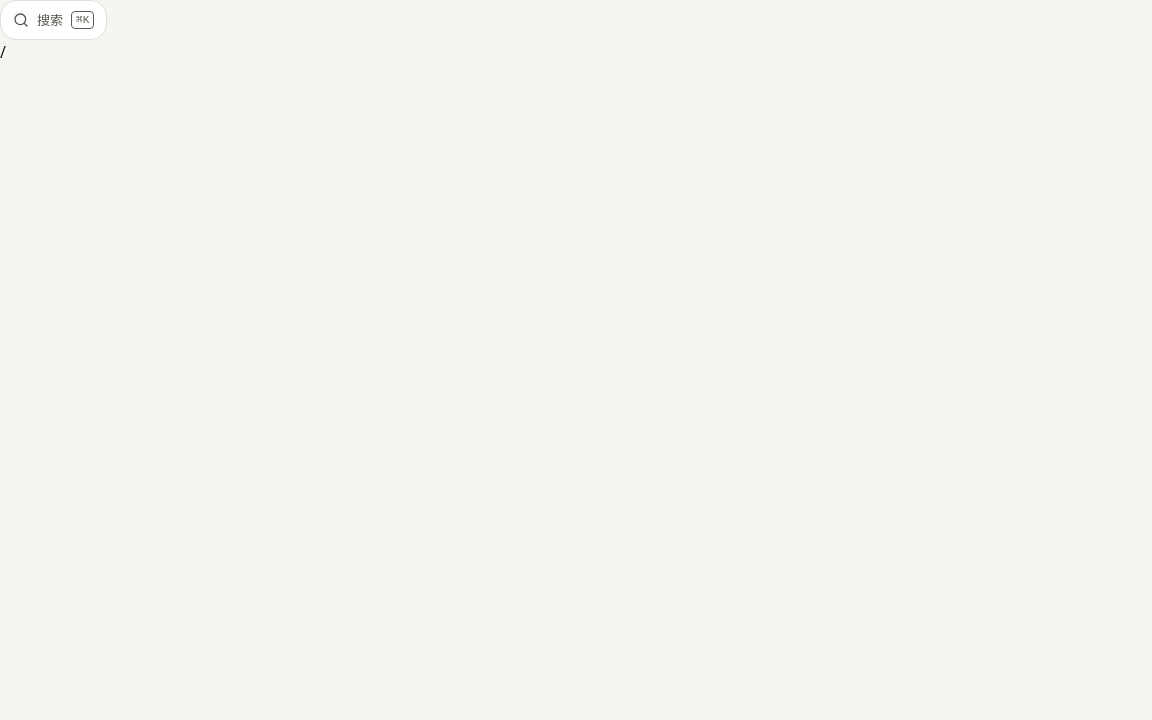
it: ⌘K → 分组结果 + 命中高亮 + ↑↓ Enter 跳转
Type keys "{Control>}k{/Control}"
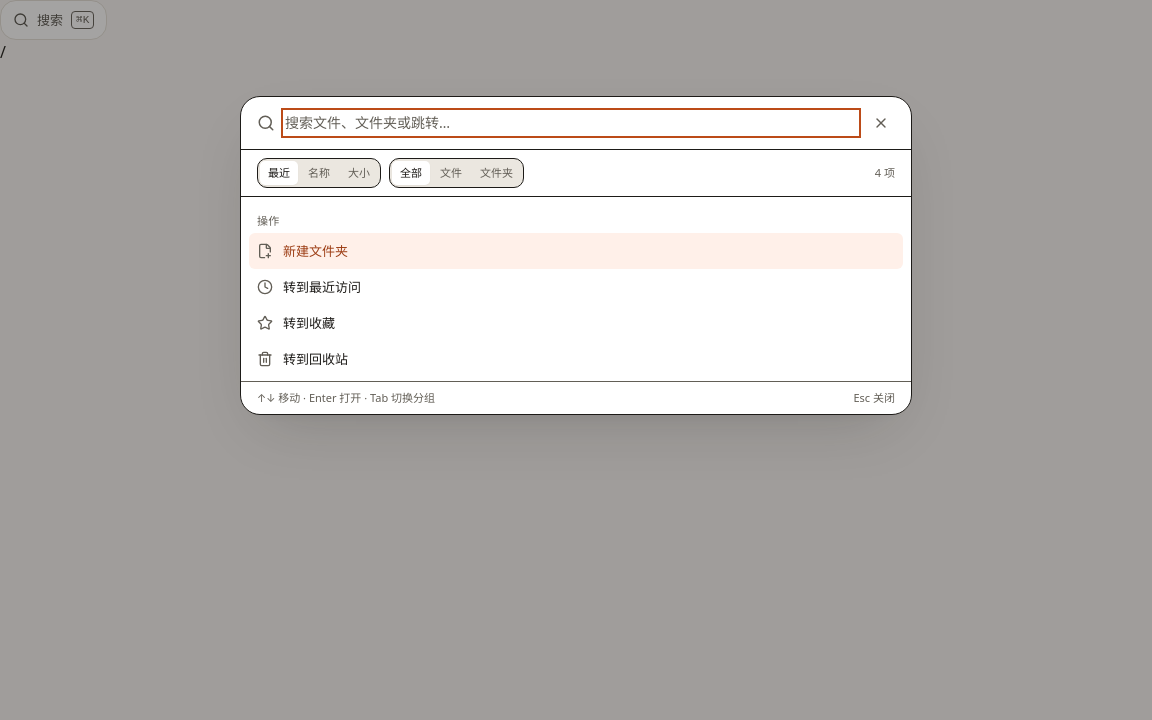
Type "聚会" into the field labelled "搜索" at (571,123), box [285, 112, 857, 134]
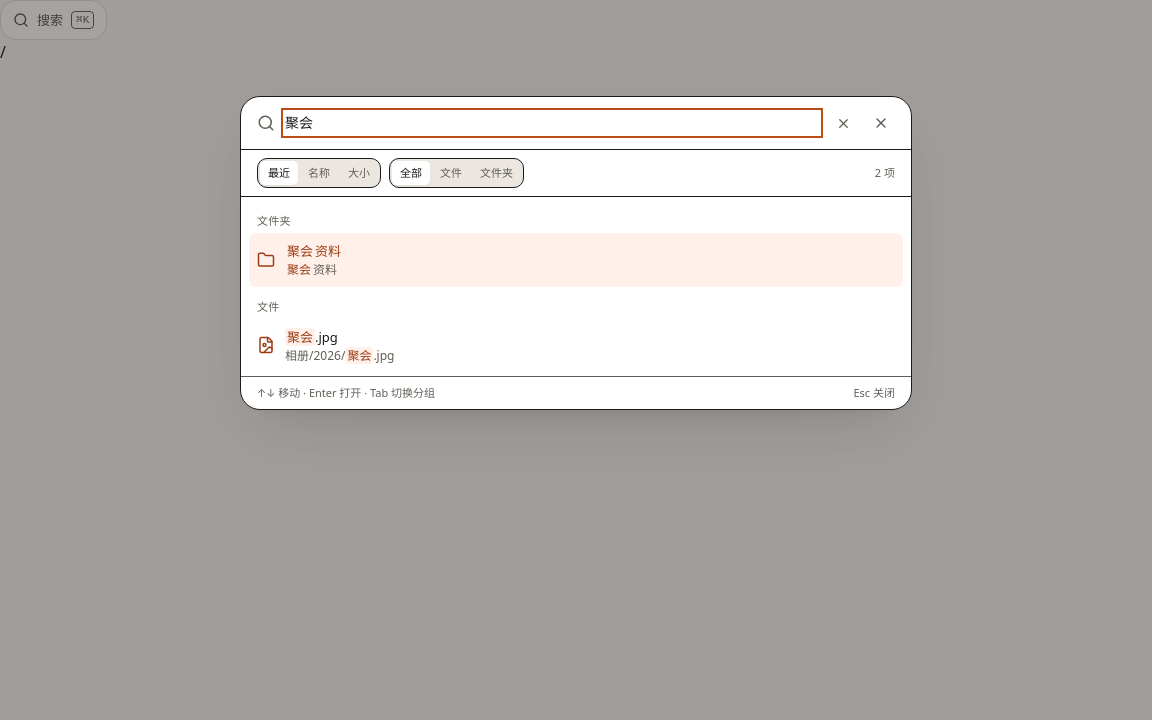
Now the text "文件夹" is shown, box [257, 213, 291, 228]
Now the text "文件" is shown, box [257, 299, 280, 314]
// Tab 切到下一分组（文件夹 → 文件），↑↓ 在两组合并后的列表里移动
Press Tab
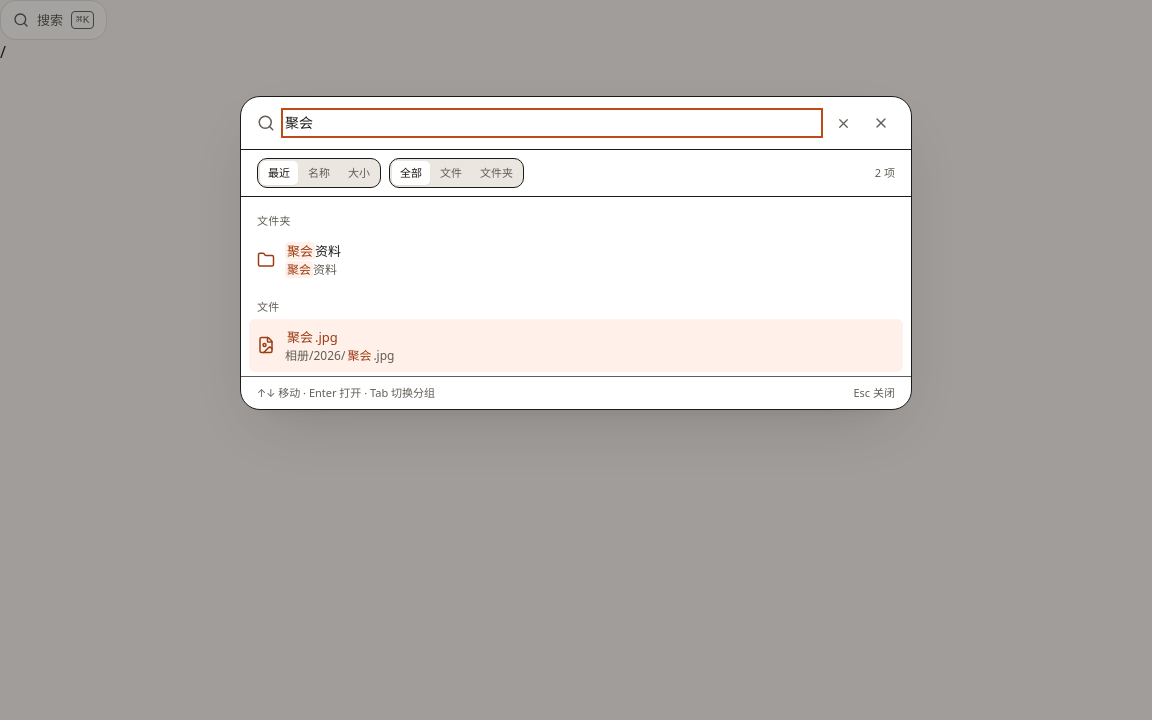
Now the button "聚会.jpg 相册/2026/聚会.jpg" is shown, box [249, 319, 903, 372]
// 末项不支持 wrap 断言，这里用 ↑ 回到文件夹，再 ↓ 回到文件后 Enter
Press Arrowup Arrowdown Enter
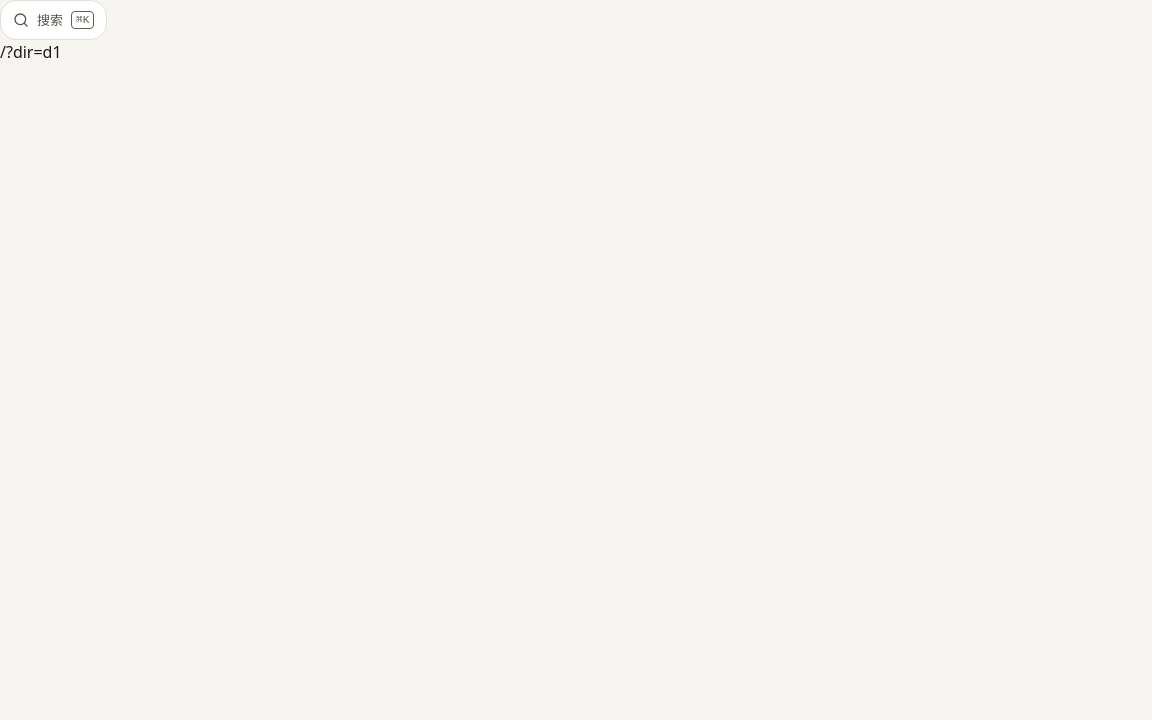
Now the text with test id "loc" reads "/?dir=d1", box [0, 41, 62, 63]
